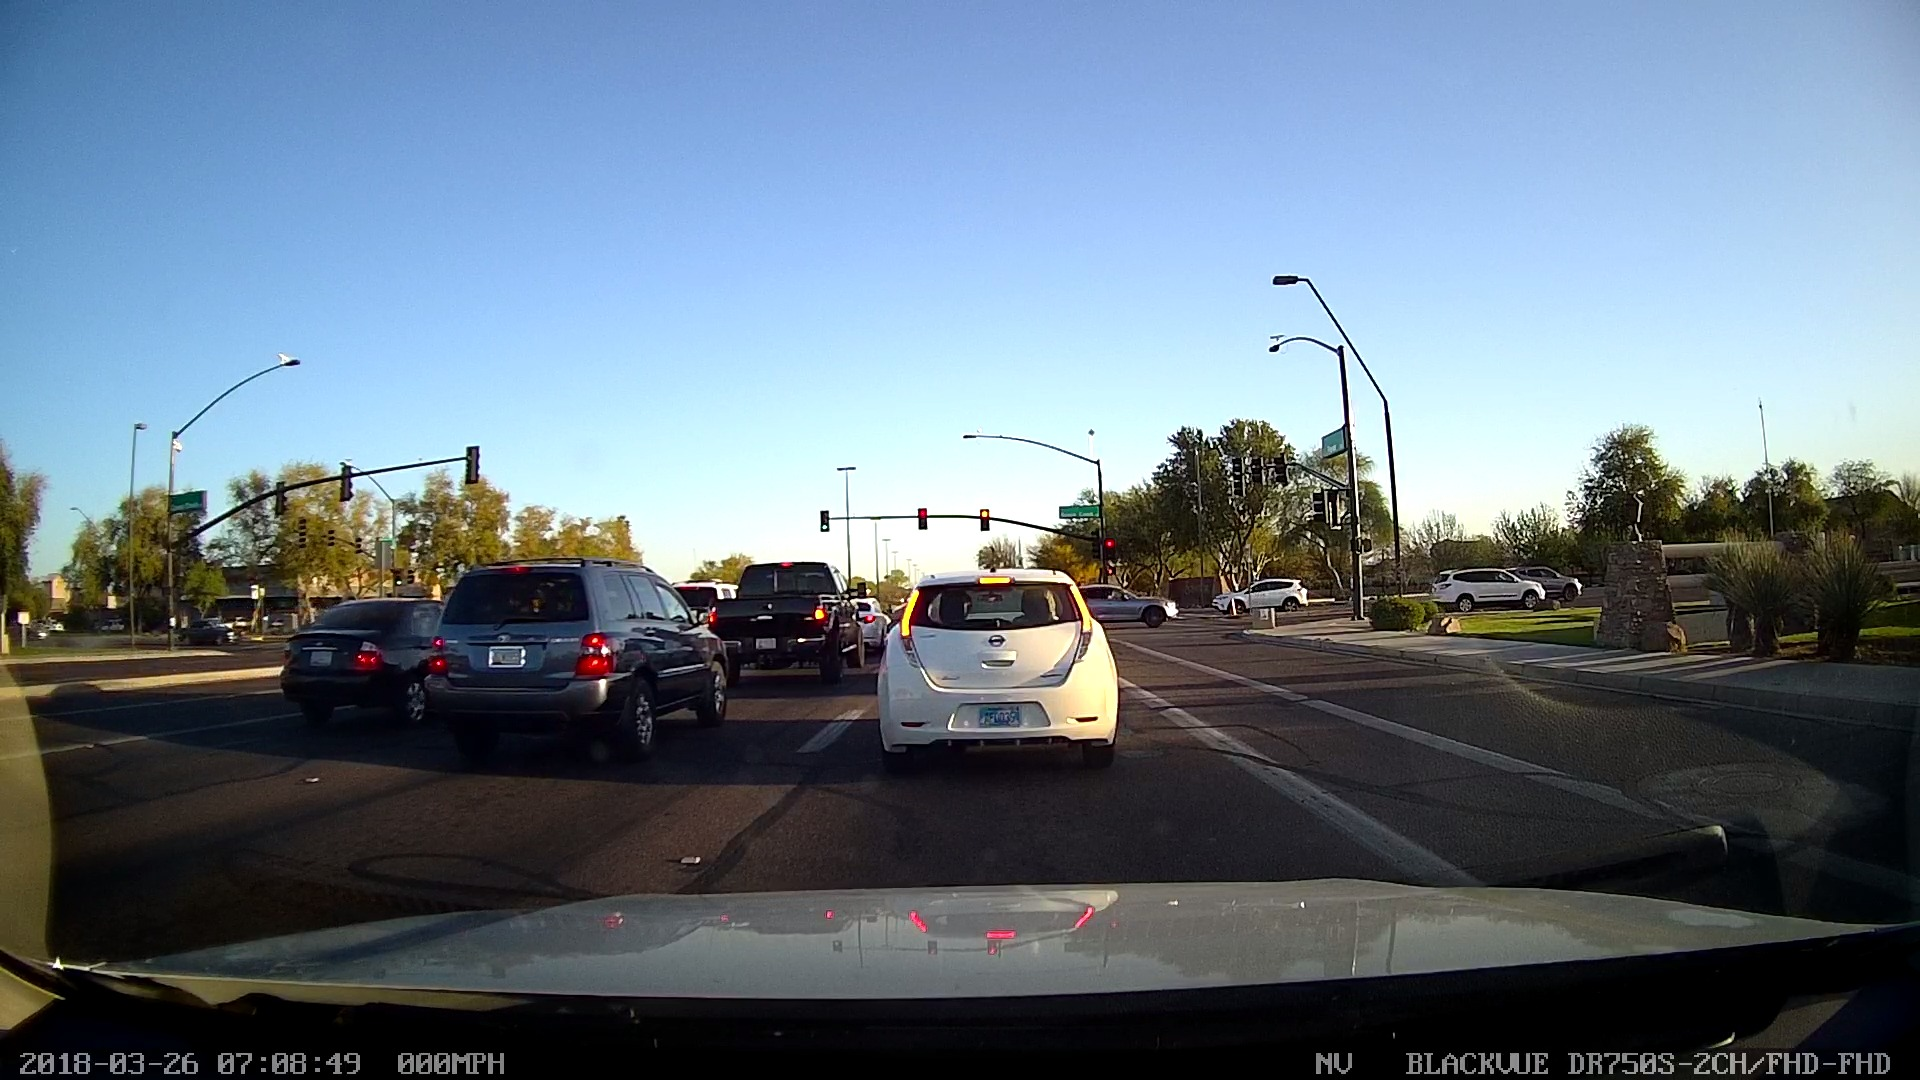vehicle: (429, 547, 737, 762), (869, 566, 1141, 778), (270, 591, 452, 736), (695, 545, 872, 692), (1414, 560, 1563, 617), (1072, 572, 1179, 632), (1208, 568, 1315, 620), (957, 692, 1047, 740)
